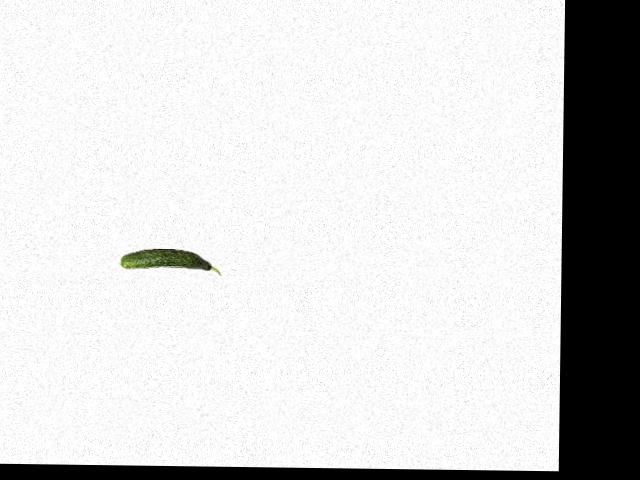cucumber: (121, 248, 222, 275)
